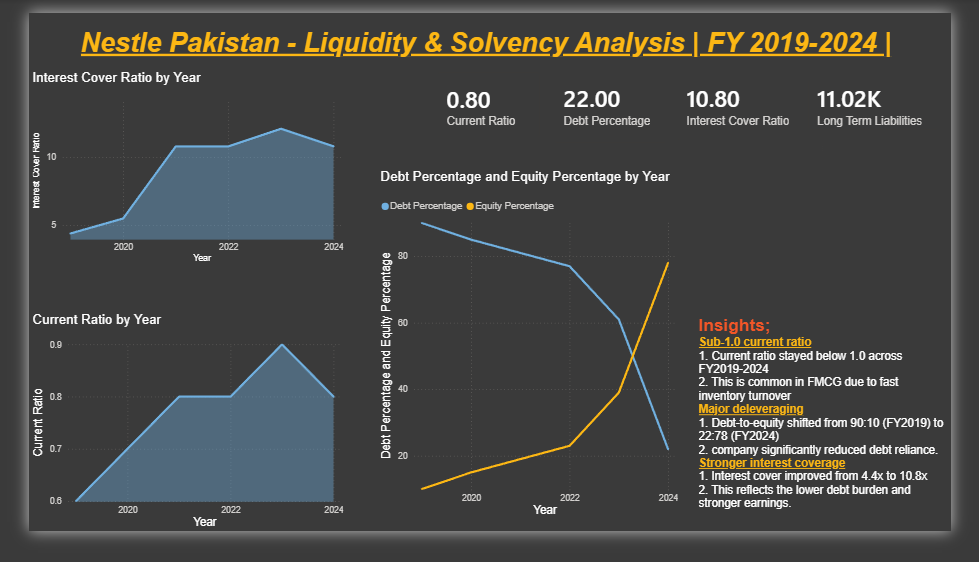

The page's visual inventory and layout, read from the dashboard file:
{"tool":"powerbi","page":{"name":"Liquidity & Solvency","canvas":[1280,720],"ordinal":3},"visuals":[{"type":"cardVisual","fields":{"Data":["Nestle Pakistan 6 yr Summary.Current Ratio"]},"box":[550,64.6,176.7,125],"z":0},{"type":"cardVisual","fields":{"Data":["Nestle Pakistan 6 yr Summary.Debt Percentage"]},"box":[712.5,56.2,193.8,141.7],"z":1000},{"type":"cardVisual","fields":{"Data":["Nestle Pakistan 6 yr Summary.Interest Cover Ratio"]},"box":[883.3,60.4,218.8,133.3],"z":2000},{"type":"cardVisual","fields":{"Data":["Nestle Pakistan 6 yr Summary.Long Ter Liabilities"]},"box":[1065.4,75.7,214.6,104.2],"z":3000},{"type":"lineChart","fields":{"Category":["Year Table.Year"],"Y":["Nestle Pakistan 6 yr Summary.Debt Percentage","Nestle Pakistan 6 yr Summary.Equity Percentage"]},"box":[483.3,216.7,422.9,487.5],"z":4000},{"type":"lineChart","fields":{"Y":["Nestle Pakistan 6 yr Summary.Interest Cover Ratio"],"Category":["Year Table.Year"]},"box":[0,79.2,441.7,272.9],"z":5000},{"type":"lineChart","fields":{"Category":["Year Table.Year"],"Y":["Nestle Pakistan 6 yr Summary.Current Ratio"]},"box":[0,414.6,441.7,306.2],"z":6000},{"type":"textbox","box":[66.7,14.6,1145.8,64.6],"z":7000},{"type":"textbox","box":[925,414.6,354.2,289.6],"z":8000}]}

Visuals, with their boxes in screenshot pixels (x1, y1, x2, y2), scaled from the page's 1280x720 canvas onto the 979x562 screenshot:
cardVisual - Nestle Pakistan 6 yr Summary.Current Ratio: [x1=421, y1=50, x2=556, y2=148]
cardVisual - Nestle Pakistan 6 yr Summary.Debt Percentage: [x1=545, y1=44, x2=693, y2=154]
cardVisual - Nestle Pakistan 6 yr Summary.Interest Cover Ratio: [x1=676, y1=47, x2=843, y2=151]
cardVisual - Nestle Pakistan 6 yr Summary.Long Ter Liabilities: [x1=815, y1=59, x2=978, y2=140]
lineChart - Year Table.Year x Nestle Pakistan 6 yr Summary.Debt Percentage: [x1=370, y1=169, x2=693, y2=550]
lineChart - Nestle Pakistan 6 yr Summary.Interest Cover Ratio x Year Table.Year: [x1=0, y1=62, x2=338, y2=275]
lineChart - Year Table.Year x Nestle Pakistan 6 yr Summary.Current Ratio: [x1=0, y1=324, x2=338, y2=561]
textbox: [x1=51, y1=11, x2=927, y2=62]
textbox: [x1=707, y1=324, x2=978, y2=550]
